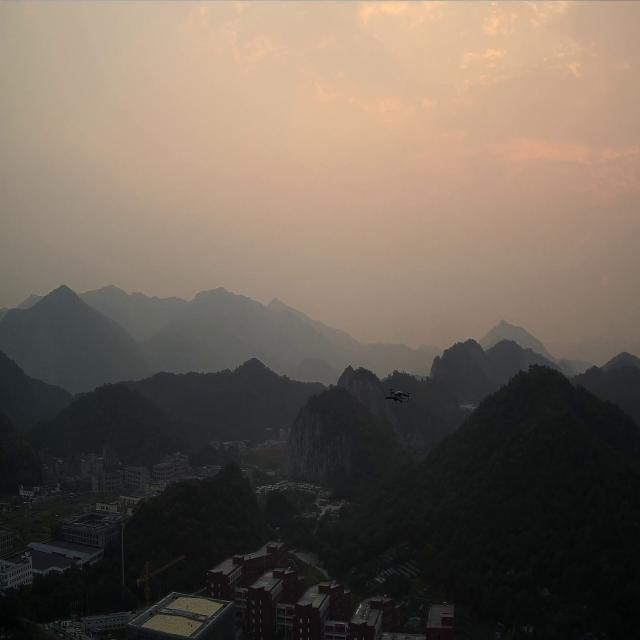UAV: (381, 388, 410, 403)
